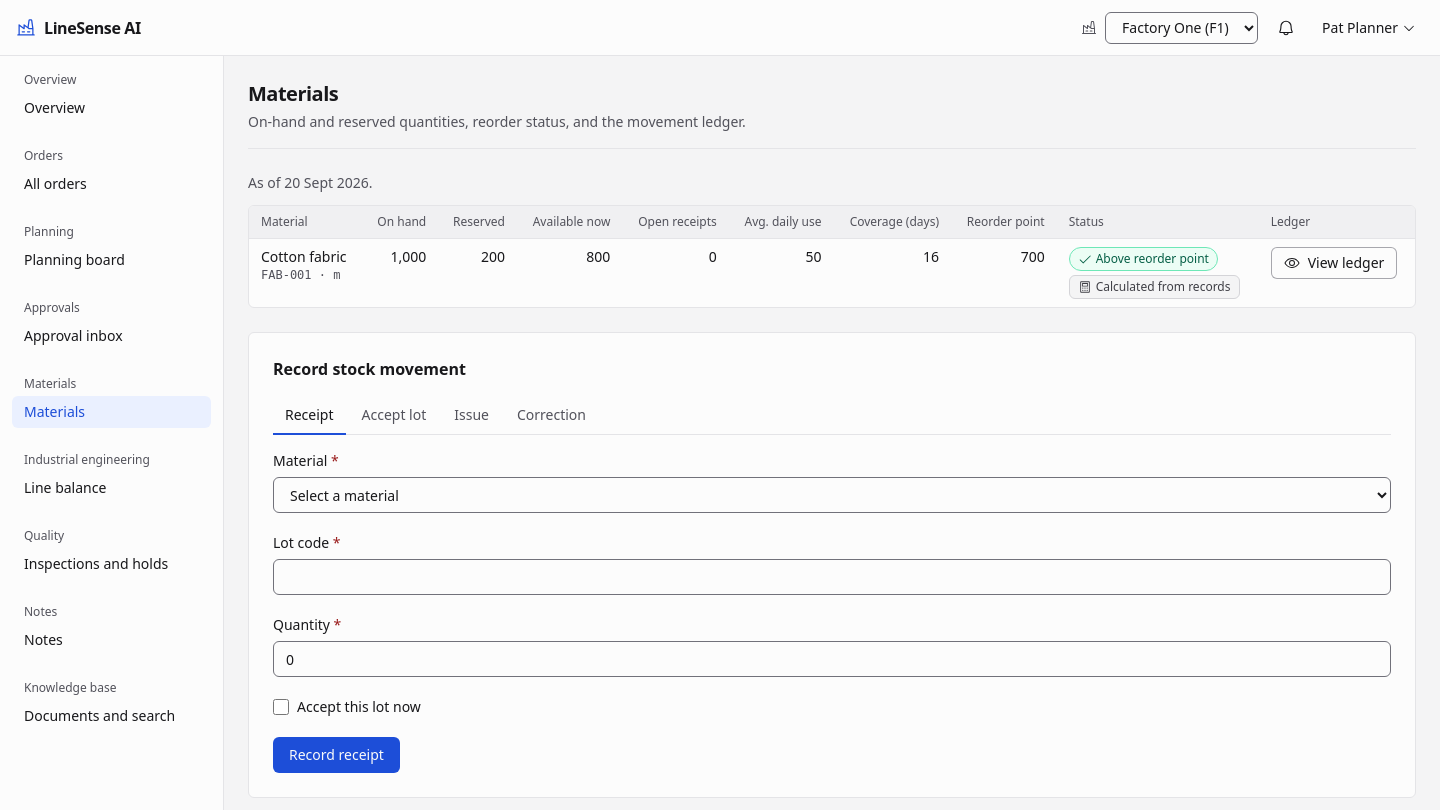
Scenario: StockMovementForms › shows a 409 conflict inline without changing the material table
Expected: the heading "Record stock movement" is shown, [273,358,466,380]
Select "Cotton fabric (FAB-001)" in the dropdown labelled "Material *": point(832, 495) [273,477,1391,513]
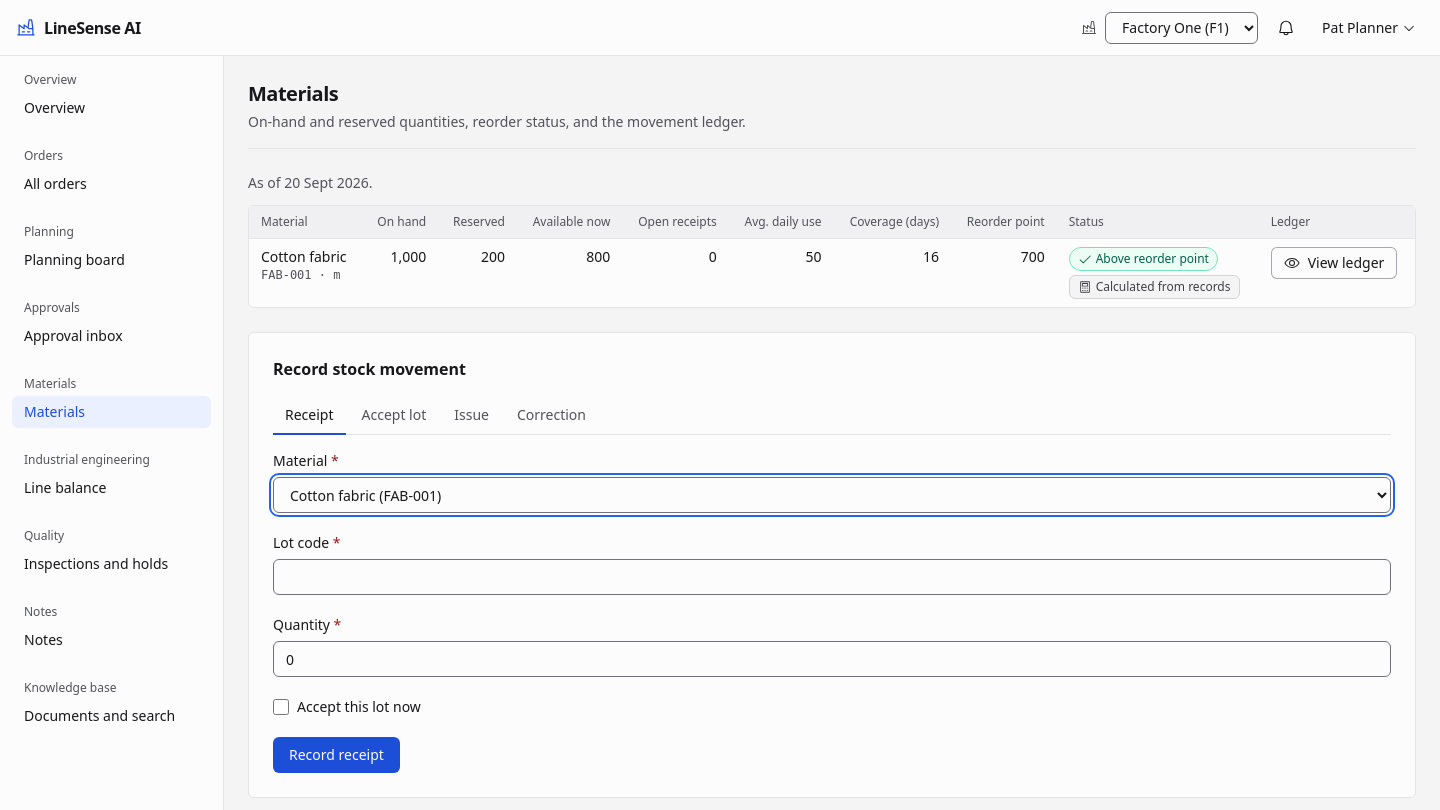
In the field labelled "Lot code *": point(832, 577) [273,559,1391,595], type "LOT-1"
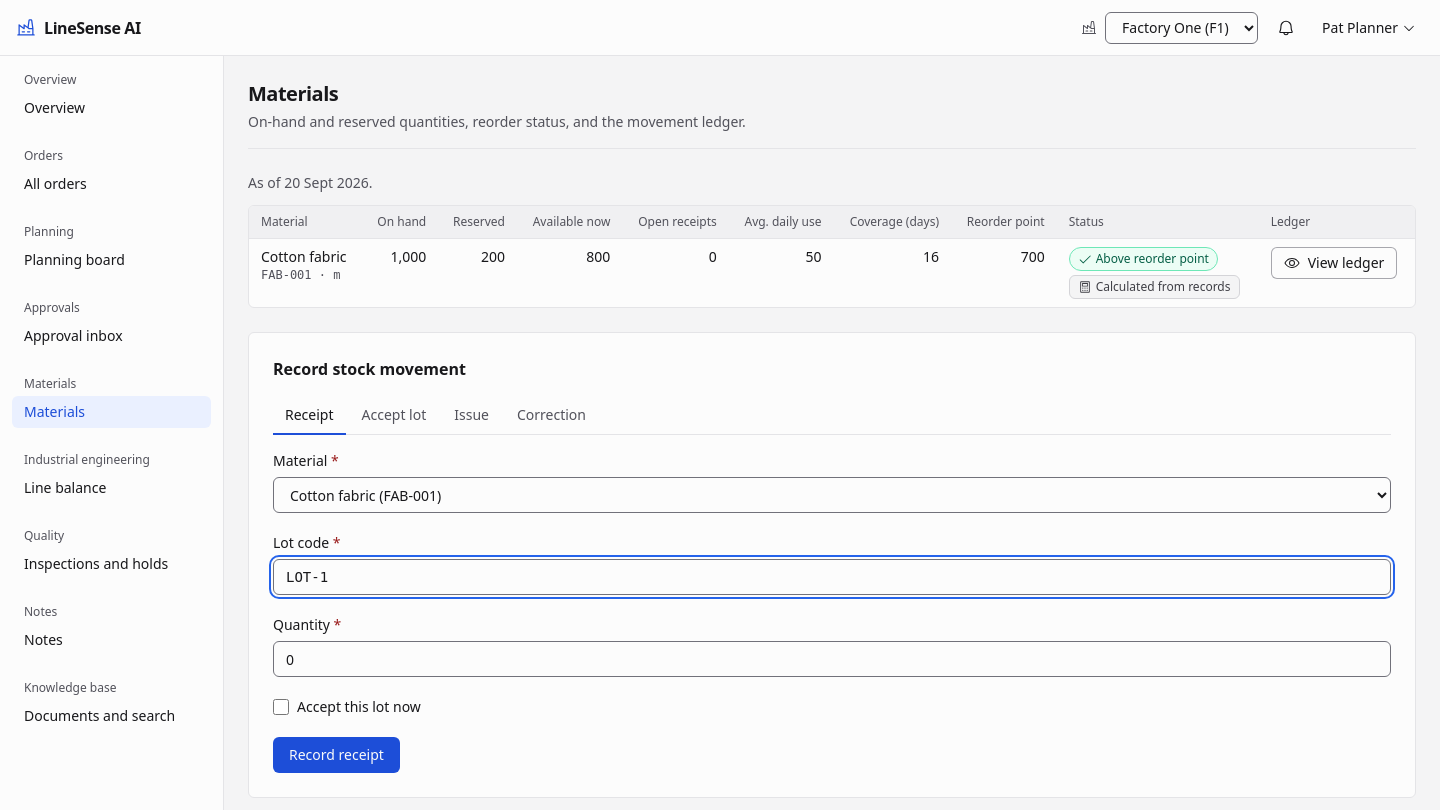
In the number field labelled "Quantity *": point(832, 659) [273,641,1391,677], type "100"
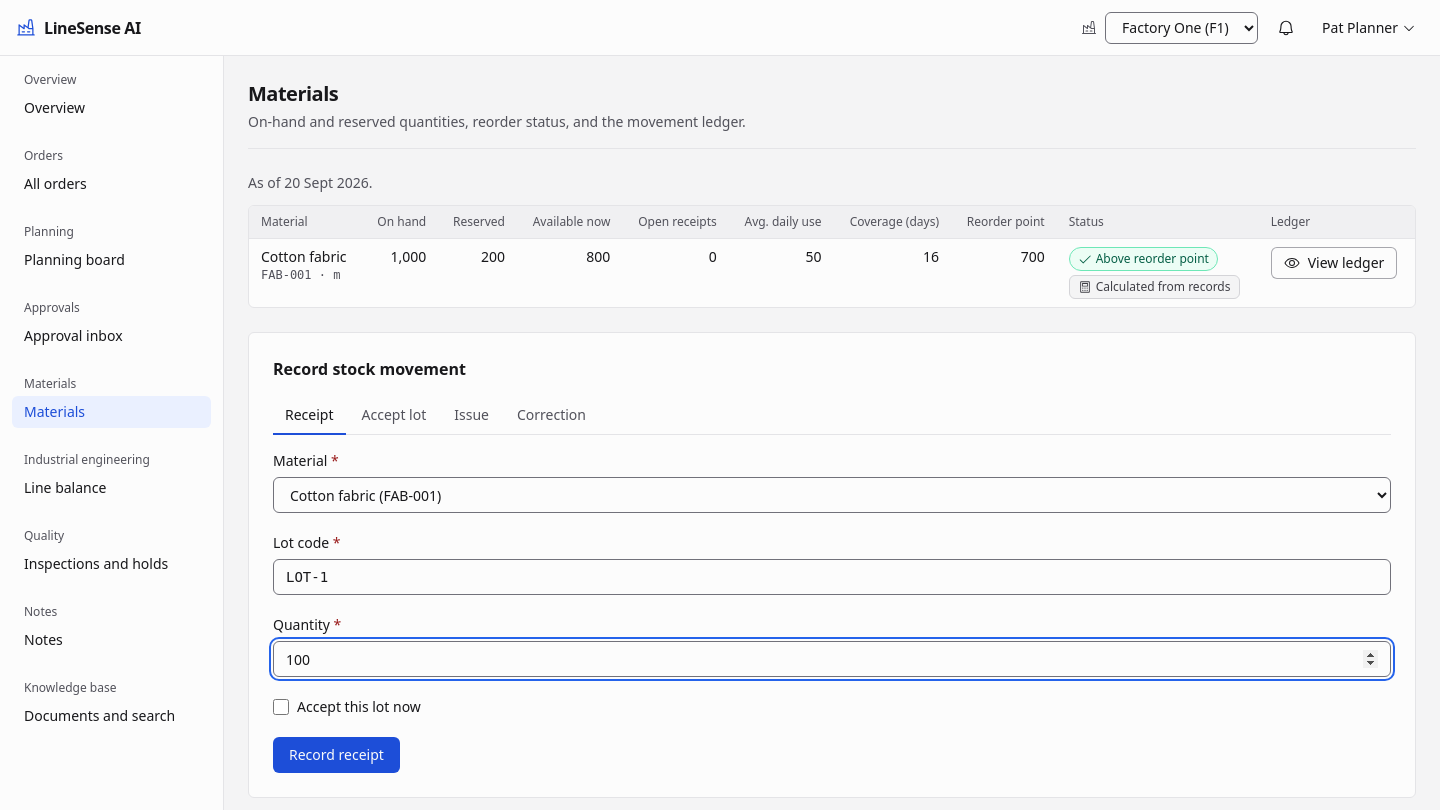
Click the button "Record receipt": point(336, 755) [273,737,400,773]
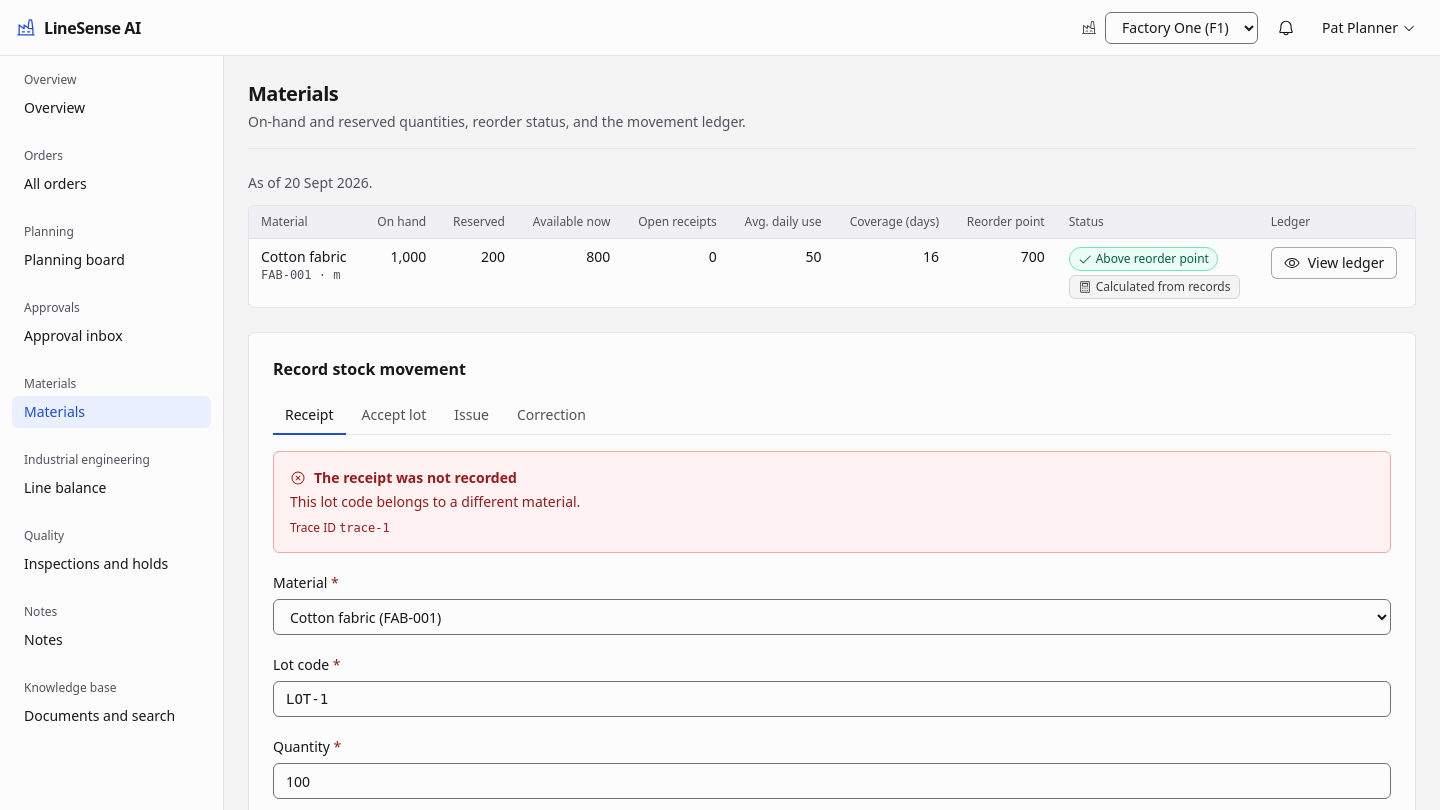
Expected: the text "800" is shown, [517,239,622,307]
Expected: the text "This lot code belongs to a different material." is shown, [290,492,580,511]
